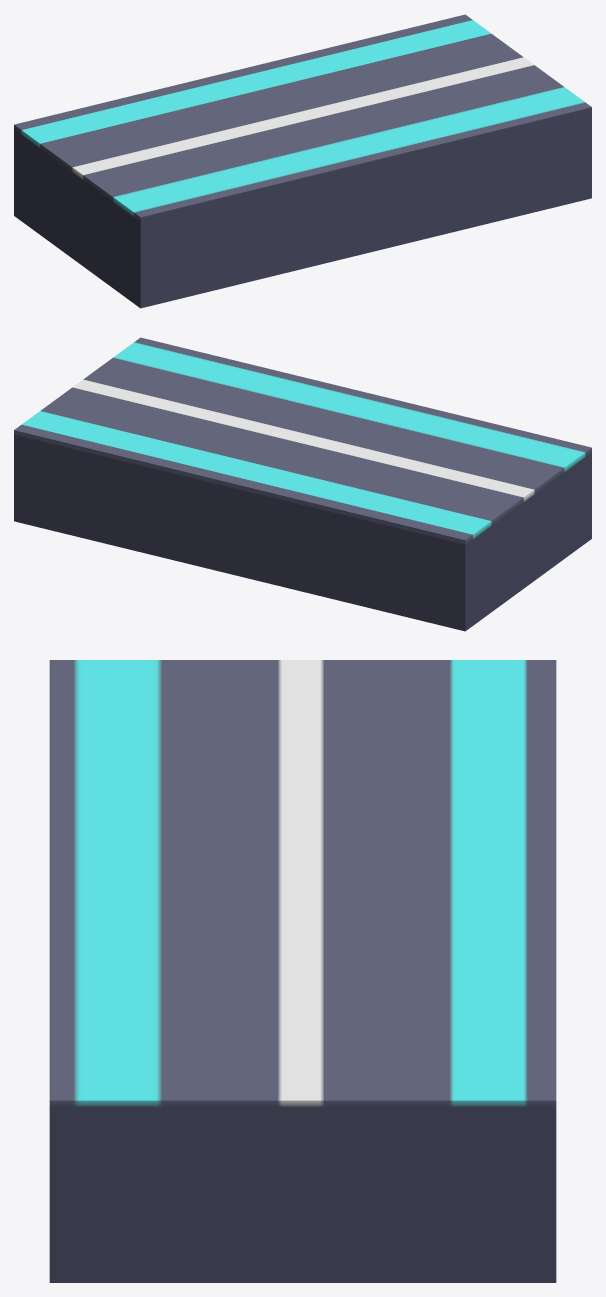
Rendered from road_np.fbx.
3 views of the same model, one above another, from view 1: azimuth 30°, elevation 25°; view 2: azimuth 150°, elevation 25°; view 3: azimuth 270°, elevation 25° (orthographic). The views are drawn at different scales.
Visible parts, largest first — view 1: pCube1; view 2: pCube1; view 3: pCube1.
Part boxes in pixels (x1,y1,x2,y2): pCube1: [14, 14, 591, 308]; pCube1: [14, 337, 591, 631]; pCube1: [49, 660, 556, 1282].
Bounding box in the file's own units: 22.72 × 4.39 × 11.04.
